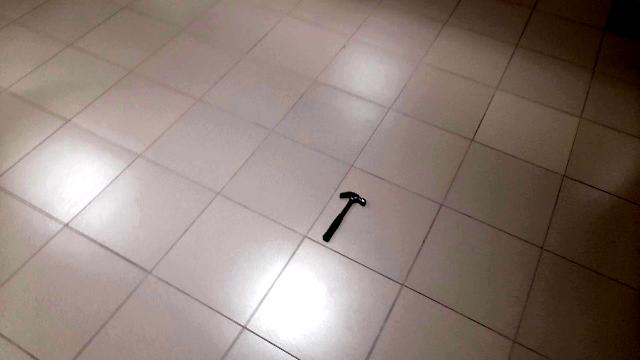hammer: (321, 180, 369, 248)
